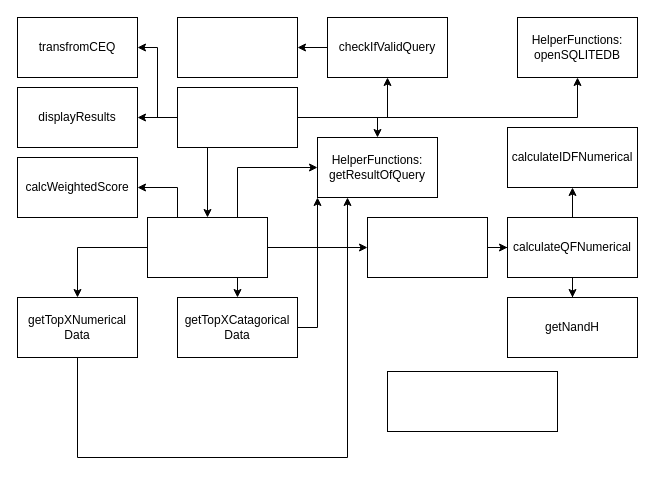
Image size: 655x483. Some labels were removed from this diagram. Here are the shapes that lost their labels. From the top down, the centre of each, then its label:
the point at 237,47: DependentiesToTopK
the point at 237,117: Main
the point at 207,247: topK
the point at 427,247: getIDValue
the point at 472,401: Made by: Olivia Lohmann: (8742779) Wifried Snijders(8657078)
